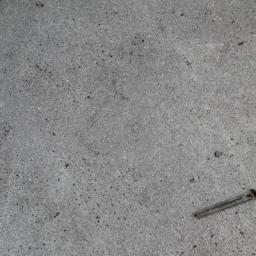FOD: (192, 189, 256, 221)
